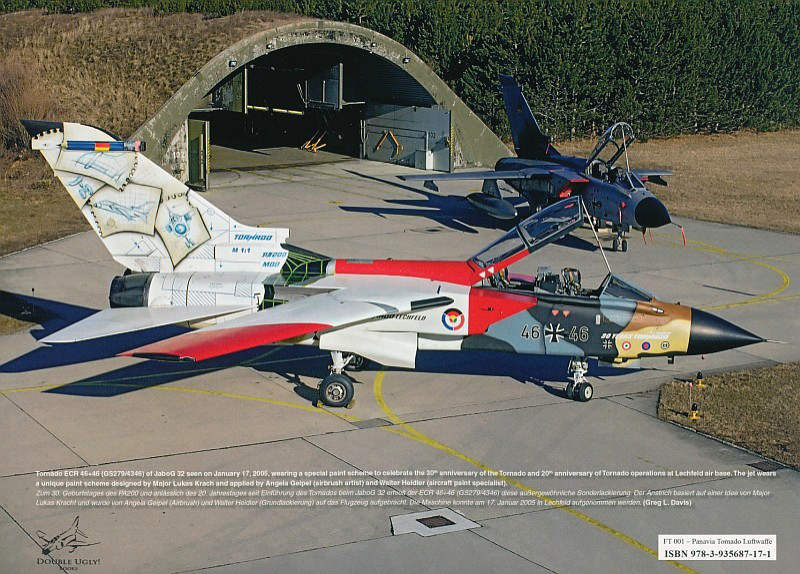Tornado: (19, 119, 798, 408), (394, 74, 683, 253)
